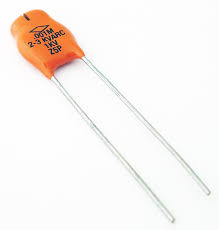ceramic capacitor: (5, 5, 106, 92)
